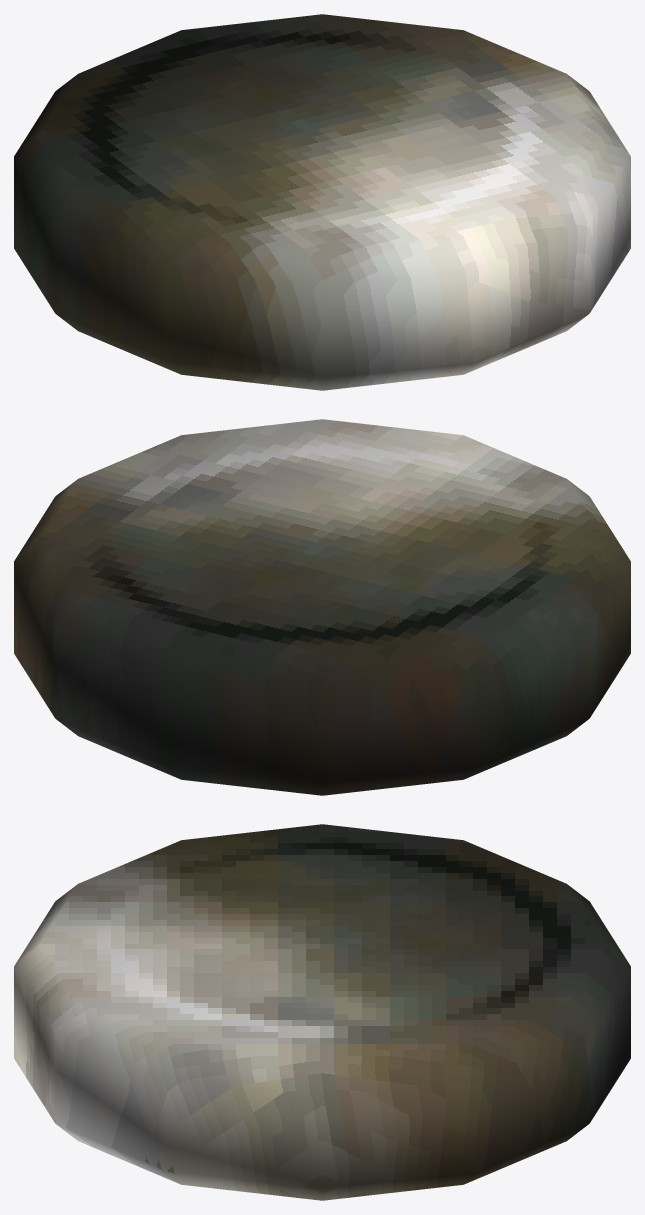
Rendered from INST_SM_CHAIN_STOPPER.fbx.
3 views of the same model, one above another, from view 1: azimuth 30°, elevation 25°; view 2: azimuth 150°, elevation 25°; view 3: azimuth 270°, elevation 25° (orthographic).
Parts seen in each view (by area): view 1: INST_SM_CHAIN_STOPPER; view 2: INST_SM_CHAIN_STOPPER; view 3: INST_SM_CHAIN_STOPPER.
Part boxes in pixels (left/top/right/bottom): INST_SM_CHAIN_STOPPER: left=14, top=14, right=630, bottom=390; INST_SM_CHAIN_STOPPER: left=14, top=419, right=630, bottom=795; INST_SM_CHAIN_STOPPER: left=14, top=824, right=630, bottom=1200.
Bounding box in the file's own units: 19150 × 4727 × 19150.
Materials: 1 (1 with a texture image).
